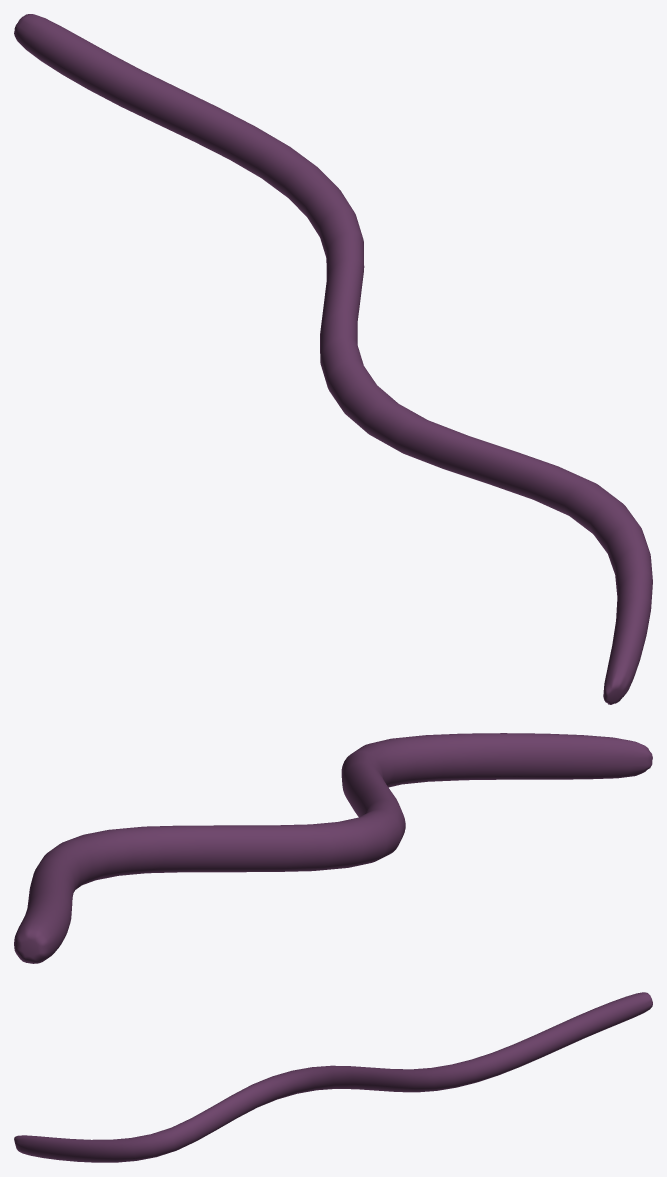
Rendered from frame_34.obj.
3 views of the same model, one above another, from view 1: azimuth 30°, elevation 25°; view 2: azimuth 150°, elevation 25°; view 3: azimuth 270°, elevation 25° (orthographic). The views are drawn at different scales.
Visible parts, largest first — view 1: worm2; view 2: worm2; view 3: worm2.
Part boxes in pixels (x1,y1,x2,y2): worm2: (14,14,652,704); worm2: (14,733,652,963); worm2: (14,992,652,1162).
Size of the model in its own units: 286 by 458 by 1726.
